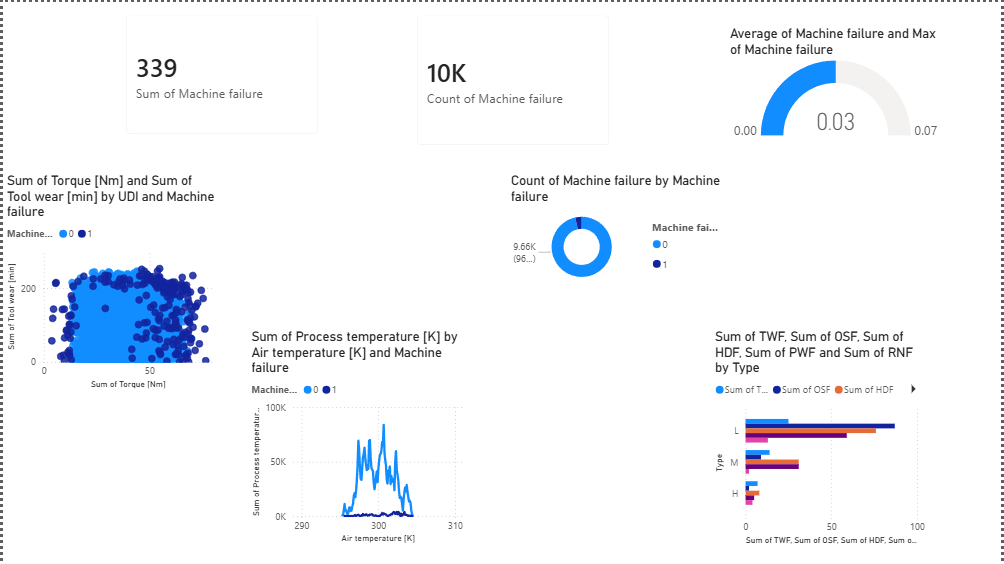

The dashboard page shown, as its layout file describes it:
{"tool":"powerbi","page":{"name":"Page 1","canvas":[1280,720],"ordinal":0},"visuals":[{"type":"cardVisual","fields":{"Data":["Sum(spark_processed_data.Machine failure)"]},"box":[140.4,0,280.8,186.5],"z":0},{"type":"cardVisual","fields":{"Data":["CountNonNull(spark_processed_data.Machine failure)"]},"box":[513.5,0,280.8,200],"z":1000},{"type":"donutChart","fields":{"Category":["spark_processed_data.Machine failure"],"Y":["CountNonNull(spark_processed_data.Machine failure)"]},"box":[646.2,219.2,280.8,150],"z":2000},{"type":"scatterChart","fields":{"X":["Sum(spark_processed_data.Torque [Nm])"],"Y":["Sum(spark_processed_data.Tool wear [min])"],"Series":["spark_processed_data.Machine failure"],"Category":["spark_processed_data.UDI"]},"box":[0,219.2,280.8,280.8],"z":3000},{"type":"lineChart","fields":{"Category":["spark_processed_data.Air temperature [K]"],"Y":["Sum(spark_processed_data.Process temperature [K])"],"Series":["spark_processed_data.Machine failure"]},"box":[313.5,419.2,280.8,278.8],"z":4000},{"type":"gauge","fields":{"Y":["Avg(spark_processed_data.Machine failure)"],"TargetValue":["Max(spark_processed_data.Machine failure)1"]},"box":[926.9,30.8,280.8,150],"z":5000},{"type":"clusteredBarChart","fields":{"Y":["Sum(spark_processed_data.TWF)","Sum(spark_processed_data.OSF)","Sum(spark_processed_data.HDF)","Sum(spark_processed_data.PWF)","Sum(spark_processed_data.RNF)"],"Category":["spark_processed_data.Type"]},"box":[907.7,419.2,278.8,280.8],"z":6000}]}

Visuals, with their boxes in screenshot pixels (x1, y1, x2, y2), scaled from the page's 1280x720 canvas onto the 1004x564 screenshot:
cardVisual - Sum(spark_processed_data.Machine failure): rect(110, 0, 330, 146)
cardVisual - CountNonNull(spark_processed_data.Machine failure): rect(403, 0, 623, 157)
donutChart - spark_processed_data.Machine failure x CountNonNull(spark_processed_data.Machine failure): rect(507, 172, 727, 289)
scatterChart - Sum(spark_processed_data.Torque [Nm]) x Sum(spark_processed_data.Tool wear [min]): rect(0, 172, 220, 392)
lineChart - spark_processed_data.Air temperature [K] x Sum(spark_processed_data.Process temperature [K]): rect(246, 328, 466, 547)
gauge - Avg(spark_processed_data.Machine failure) x Max(spark_processed_data.Machine failure)1: rect(727, 24, 947, 142)
clusteredBarChart - Sum(spark_processed_data.TWF) x Sum(spark_processed_data.OSF): rect(712, 328, 931, 548)
